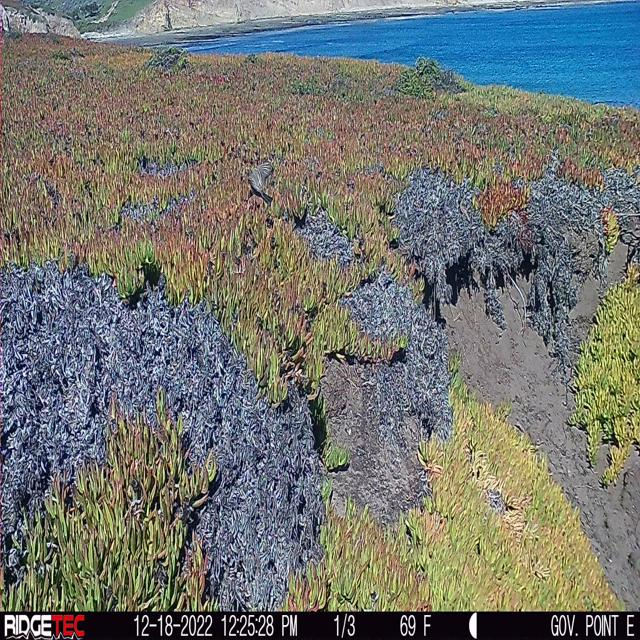bird: (233, 149, 281, 213)
